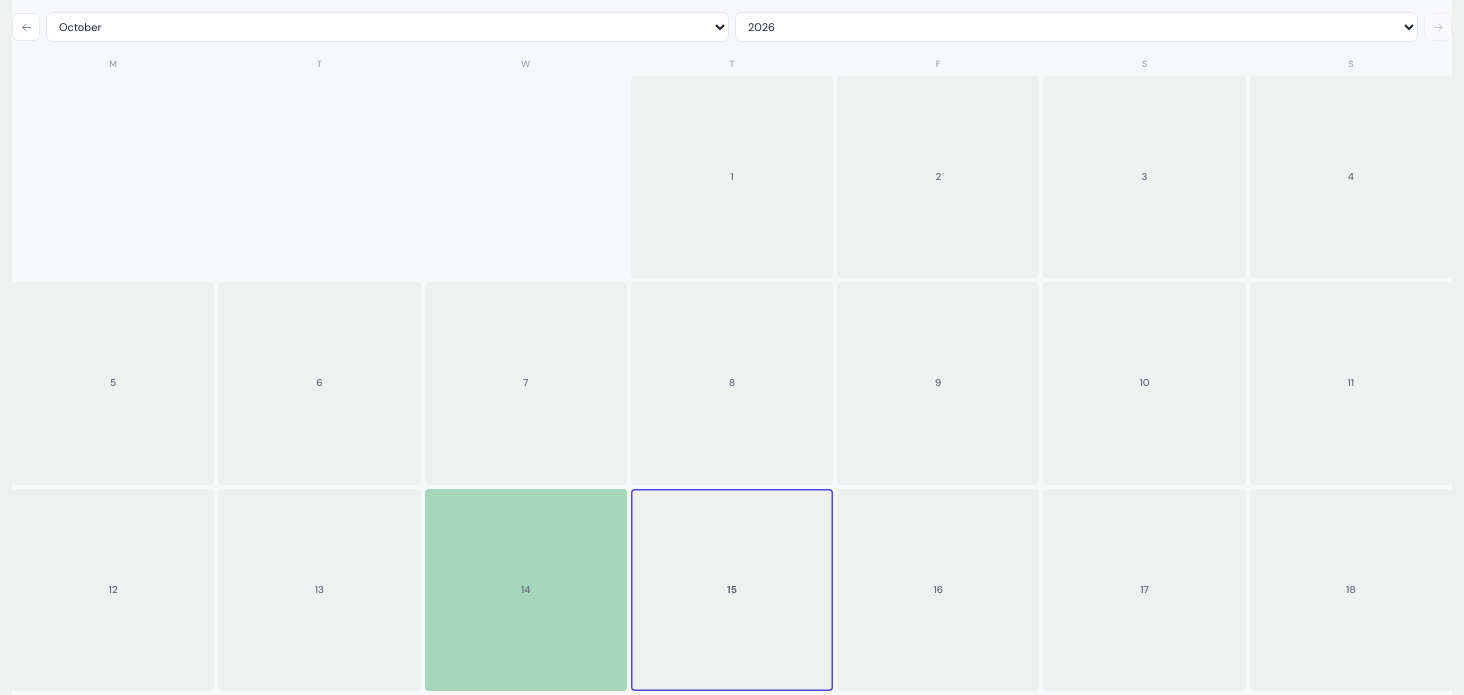
shows the full date and breakdown on hover, focus and tap
Hover over the button named "October 14, 2026" at (526, 590), box x1=425 y1=489 x2=627 y2=691
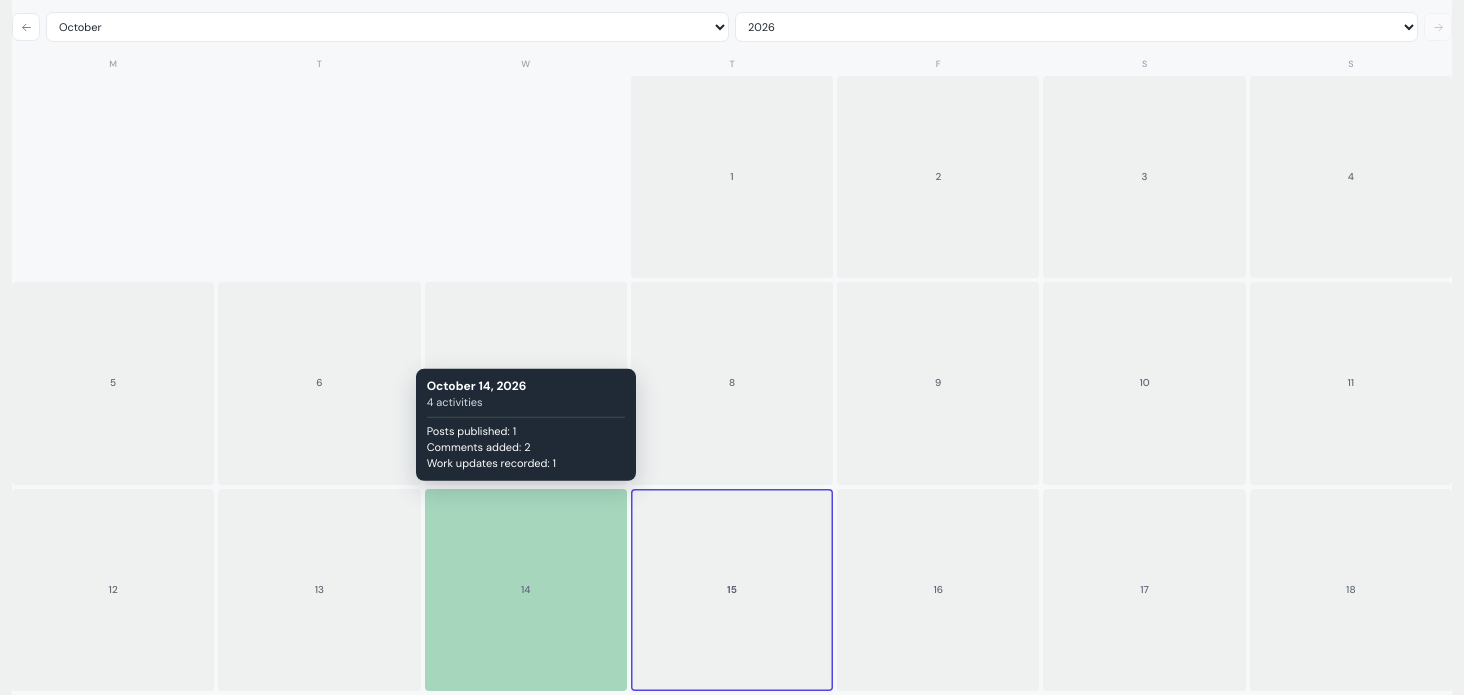
Expected: the tooltip shows "October 14, 2026", x1=427 y1=378 x2=526 y2=394
Expected: the tooltip shows "4 activities", x1=427 y1=395 x2=482 y2=409
Expected: the tooltip shows "Posts published: 1", x1=416 y1=368 x2=636 y2=481
Move the pointer off the button named "October 14, 2026", box x1=425 y1=489 x2=627 y2=691
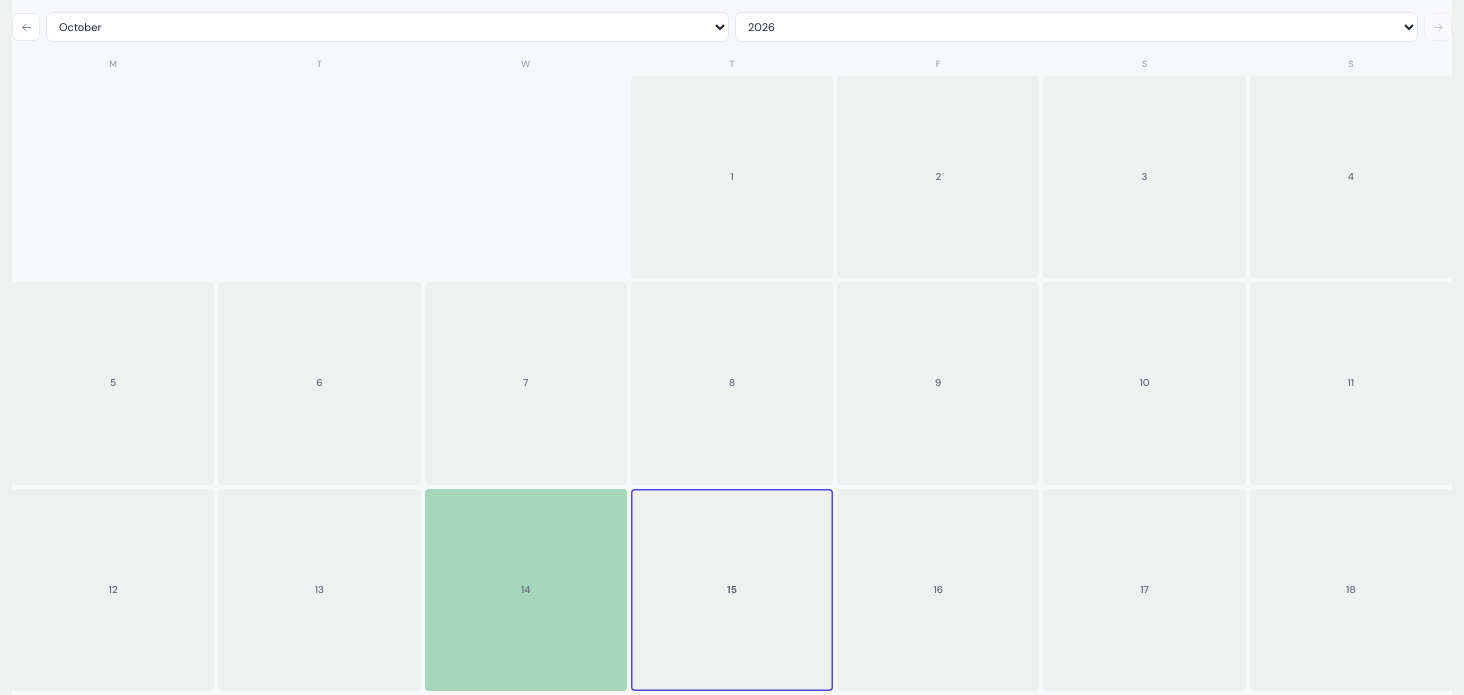
Expected: the tooltip "October 14, 2026 4 activities Posts published: 1 Comments added: 2 Work updates" is gone
Focus the button named "October 15, 2026: No activity". click: (732, 590)
box: x1=631 y1=489 x2=833 y2=691
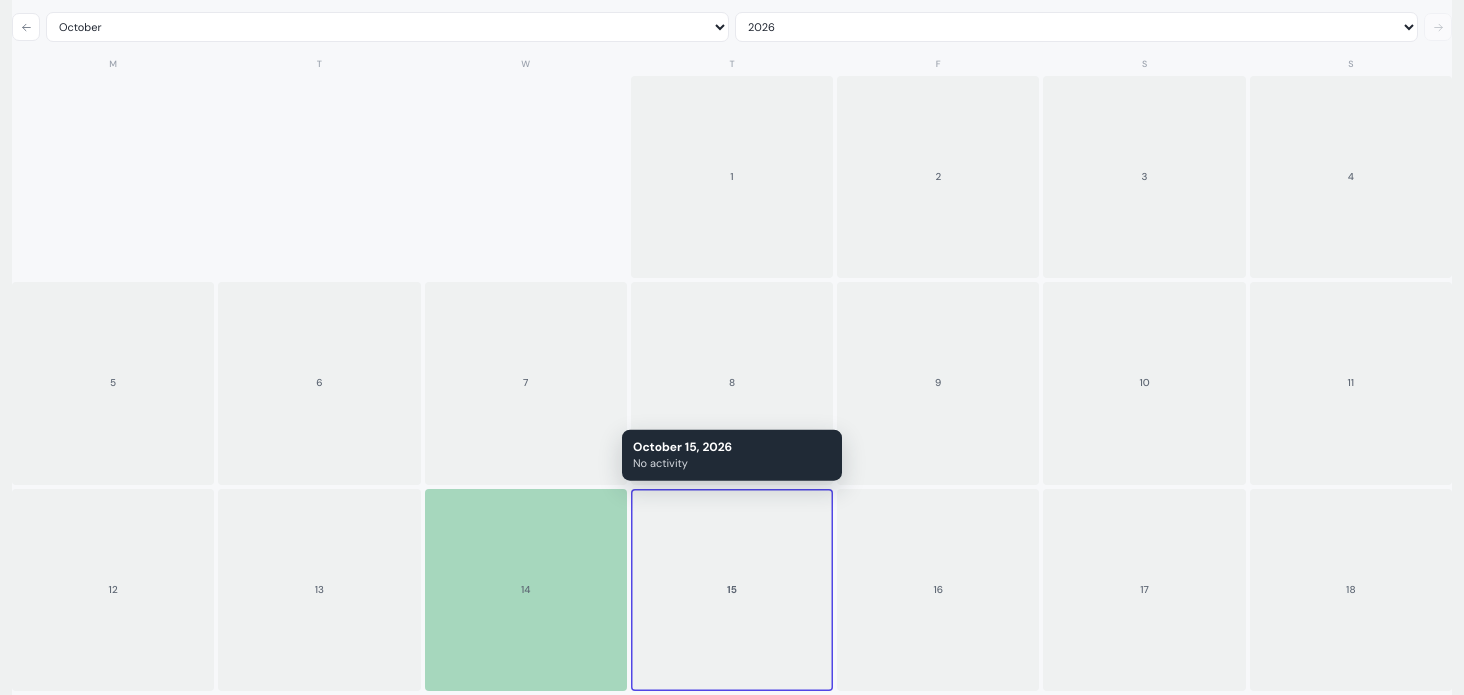
Expected: the tooltip reads "October 15, 2026 No activity", x1=622 y1=429 x2=842 y2=481
Press Escape
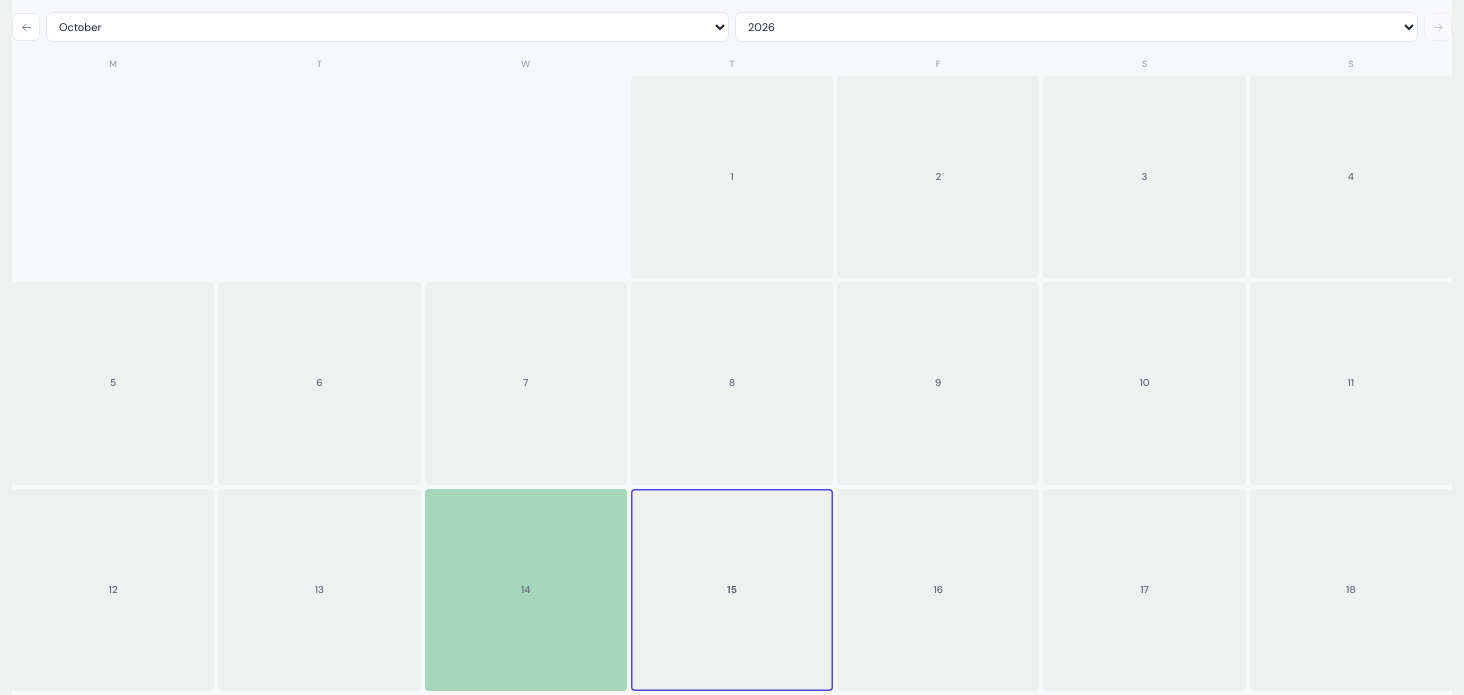
Expected: the tooltip "October 15, 2026 No activity" is gone
Click the button named "October 15, 2026: No activity". click: click(732, 590)
box: x1=631 y1=489 x2=833 y2=691
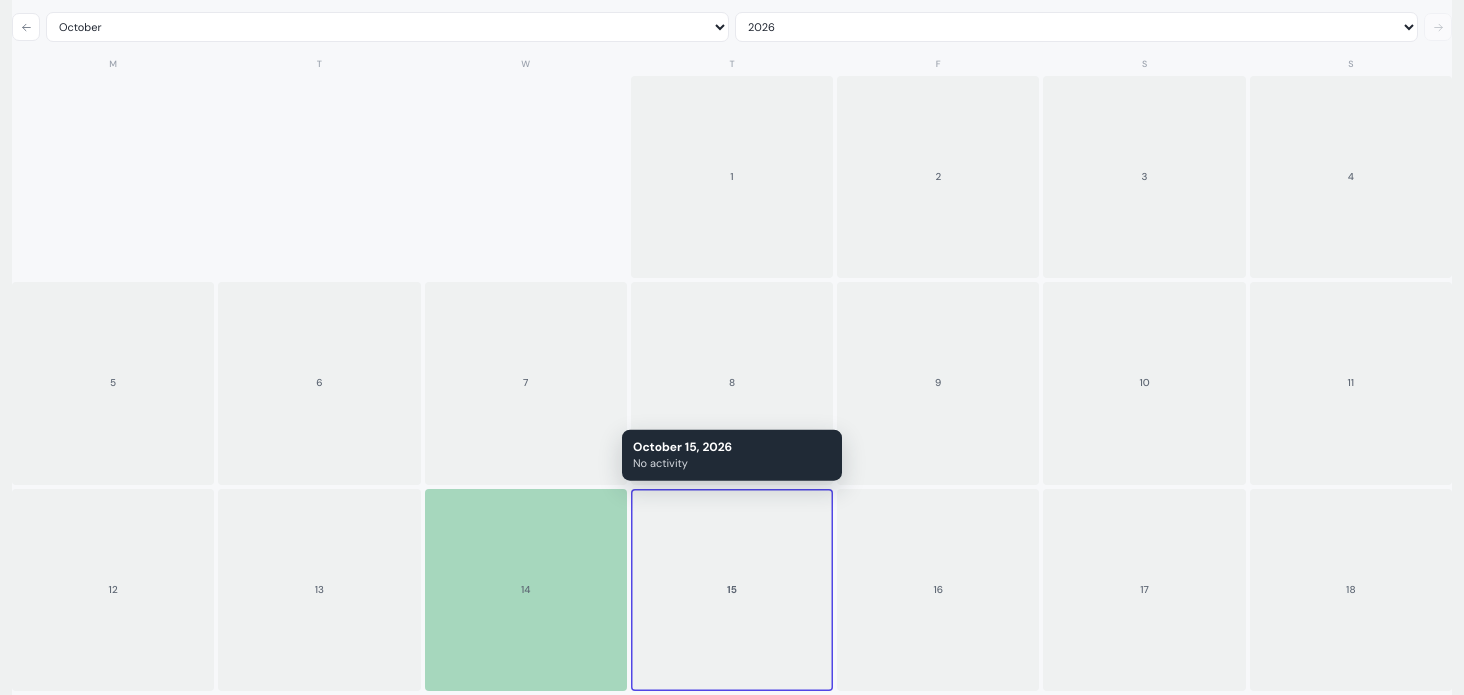
Move the pointer off the button named "October 15, 2026: No activity", box x1=631 y1=489 x2=833 y2=691
Expected: the tooltip shows "October 15, 2026", x1=633 y1=438 x2=732 y2=454
Click the button named "October 15, 2026: No activity". click: click(732, 590)
box: x1=631 y1=489 x2=833 y2=691
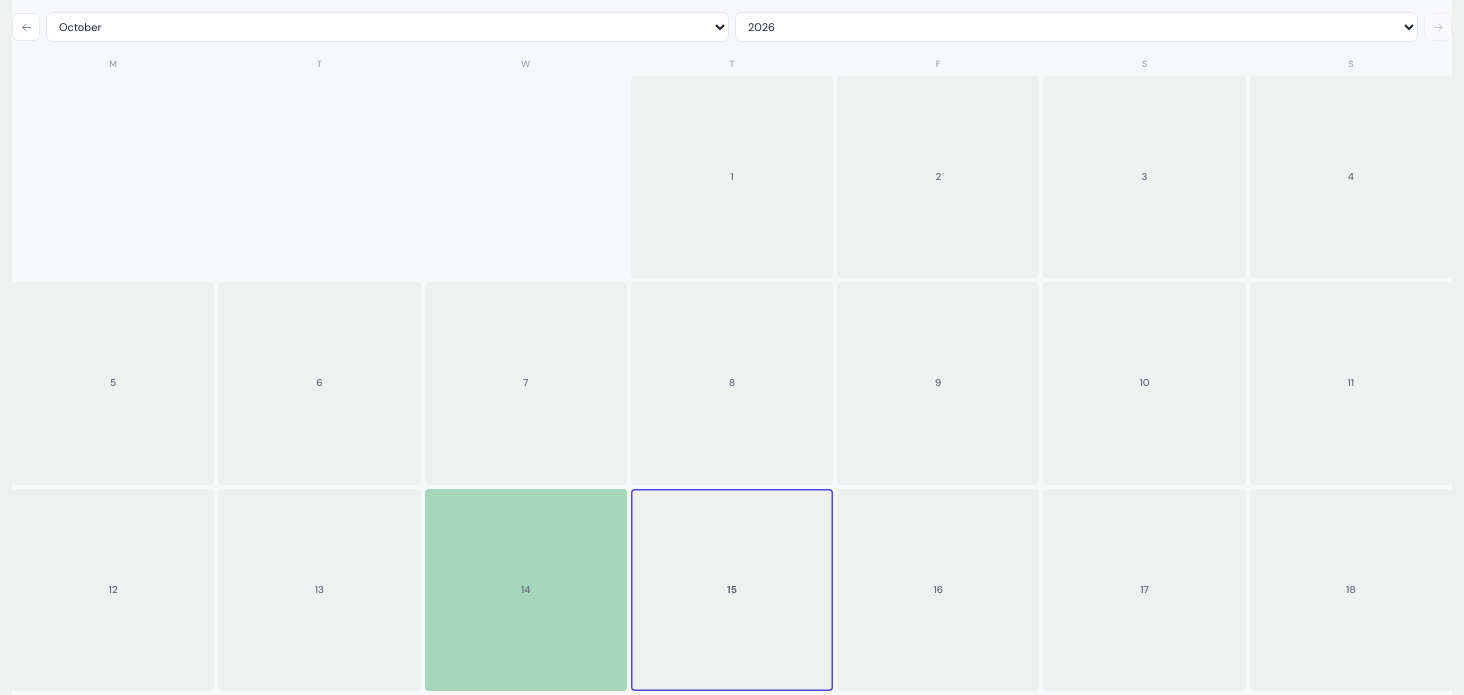
Expected: the tooltip "October 15, 2026 No activity" is gone
